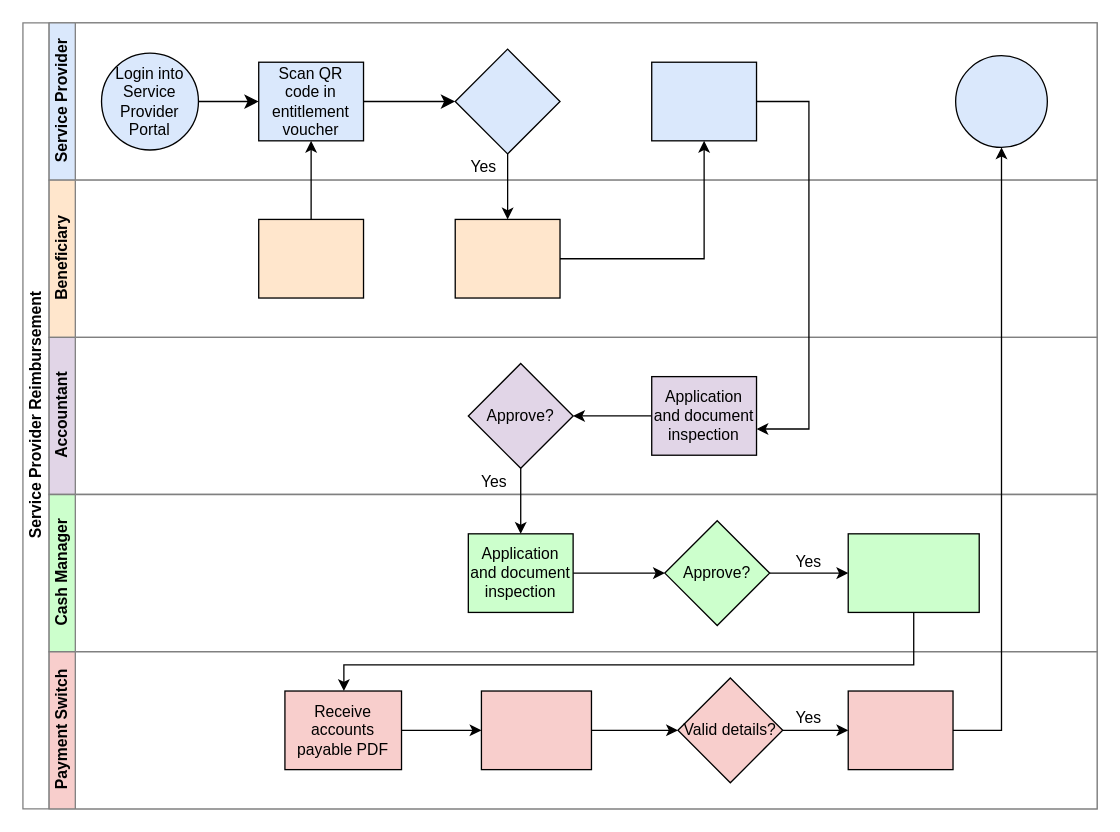
Some shapes in this 1120 by 832 pixel diagram are drawn without their labels. Each missing label, with the centre of its shape:
"Application and document upload" goes at [703,101].
"Prepare accounts payable PDF with QR code" goes at [913,572].
"Present entitlement voucher" goes at [310,258].
"Receive cash/medical assistance" goes at [507,258].
"Receive payment" goes at [1000,100].
"Transfer the reimbursement amount" goes at [900,730].
"Valid scan?" goes at [507,101].
"Verify digital signature from the QR code" goes at [535,730].
